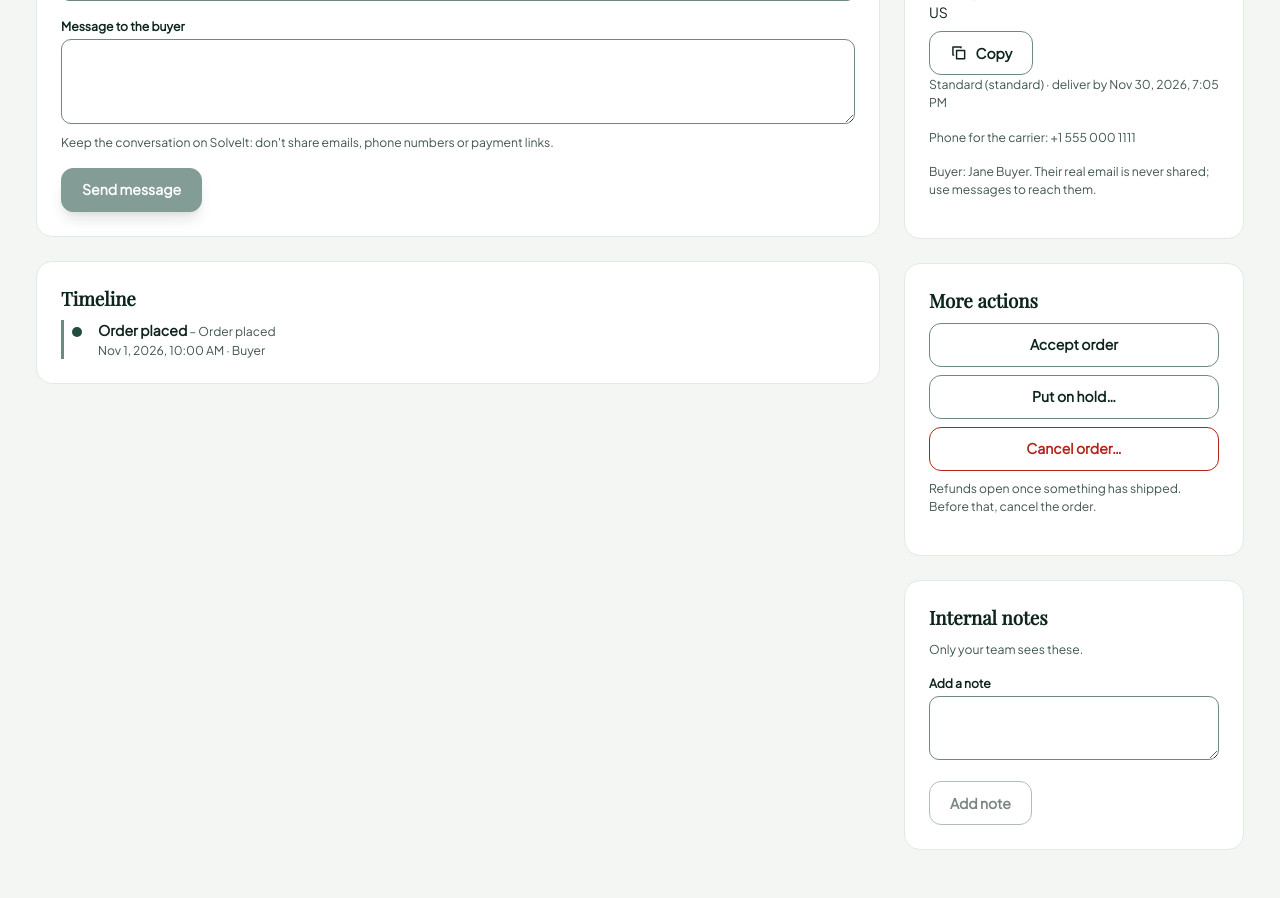
Test: review: live reloads and conflicts › a version conflict offers a Reload order button that keeps the dialog open
(page scrolled)
Click the button "Cancel order…": (1074,449) [929,427,1219,471]
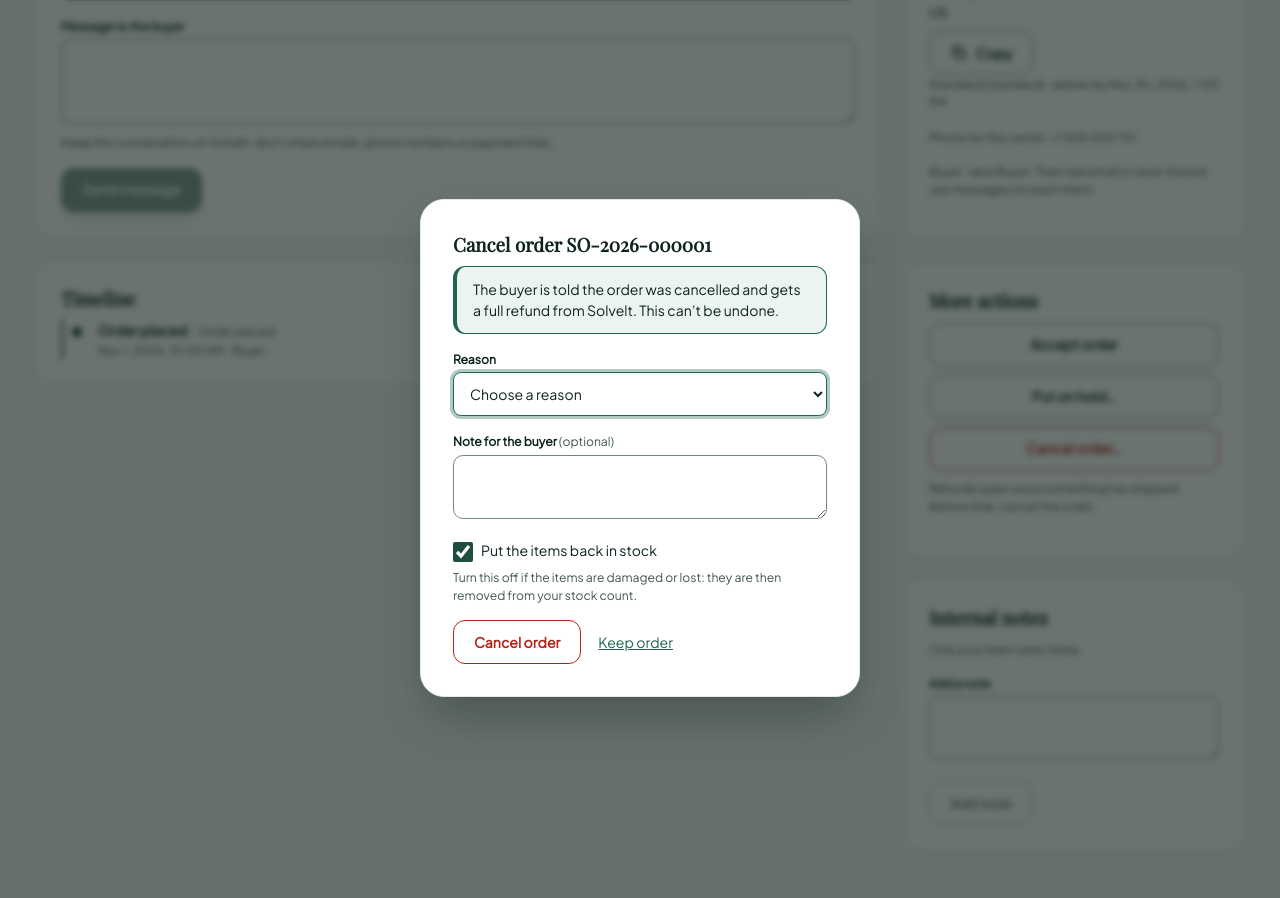
Select "Other" in the dropdown labelled "Reason": (640,394) [453,372,827,416]
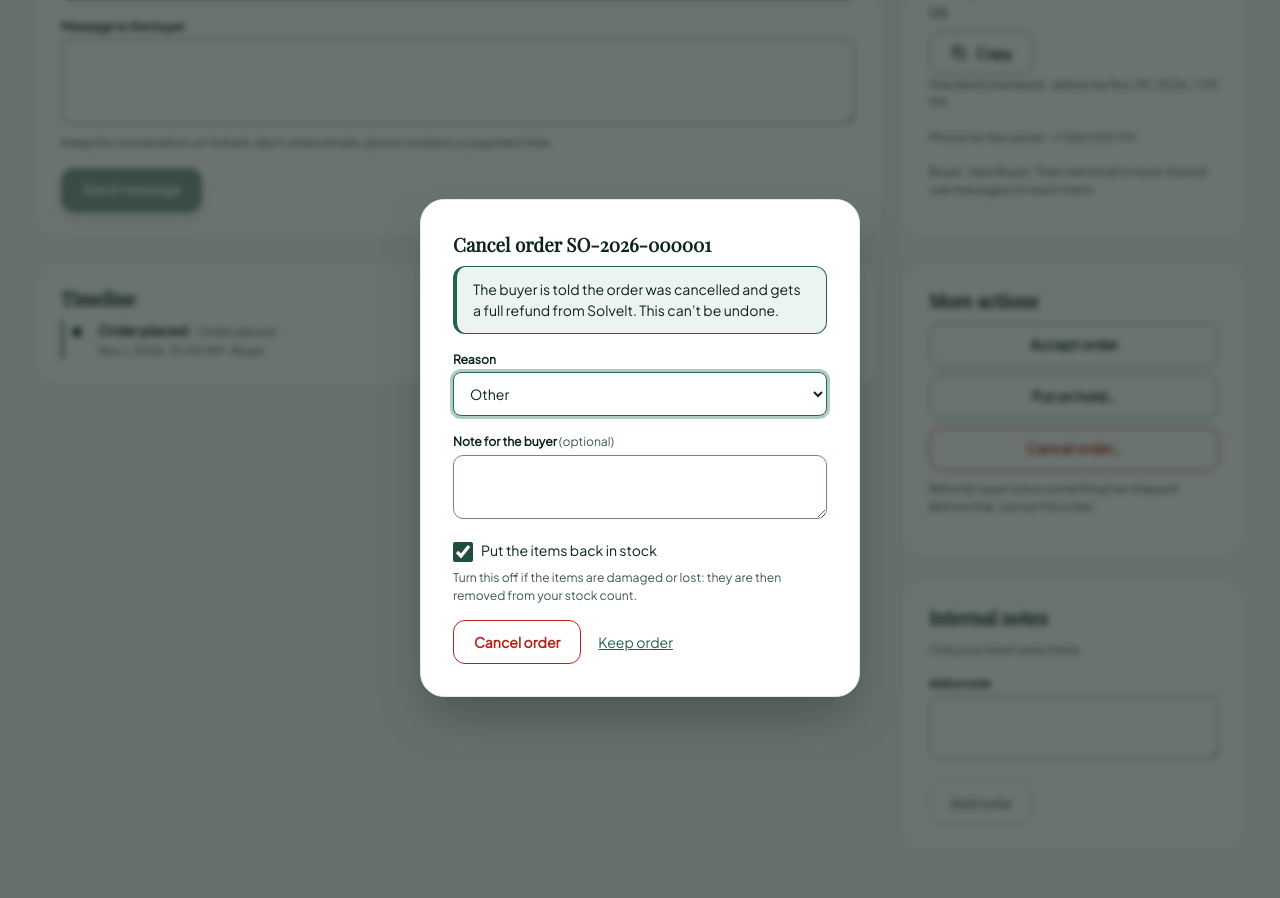
Click the button "Cancel order": (517,642) [453,620,581,664]
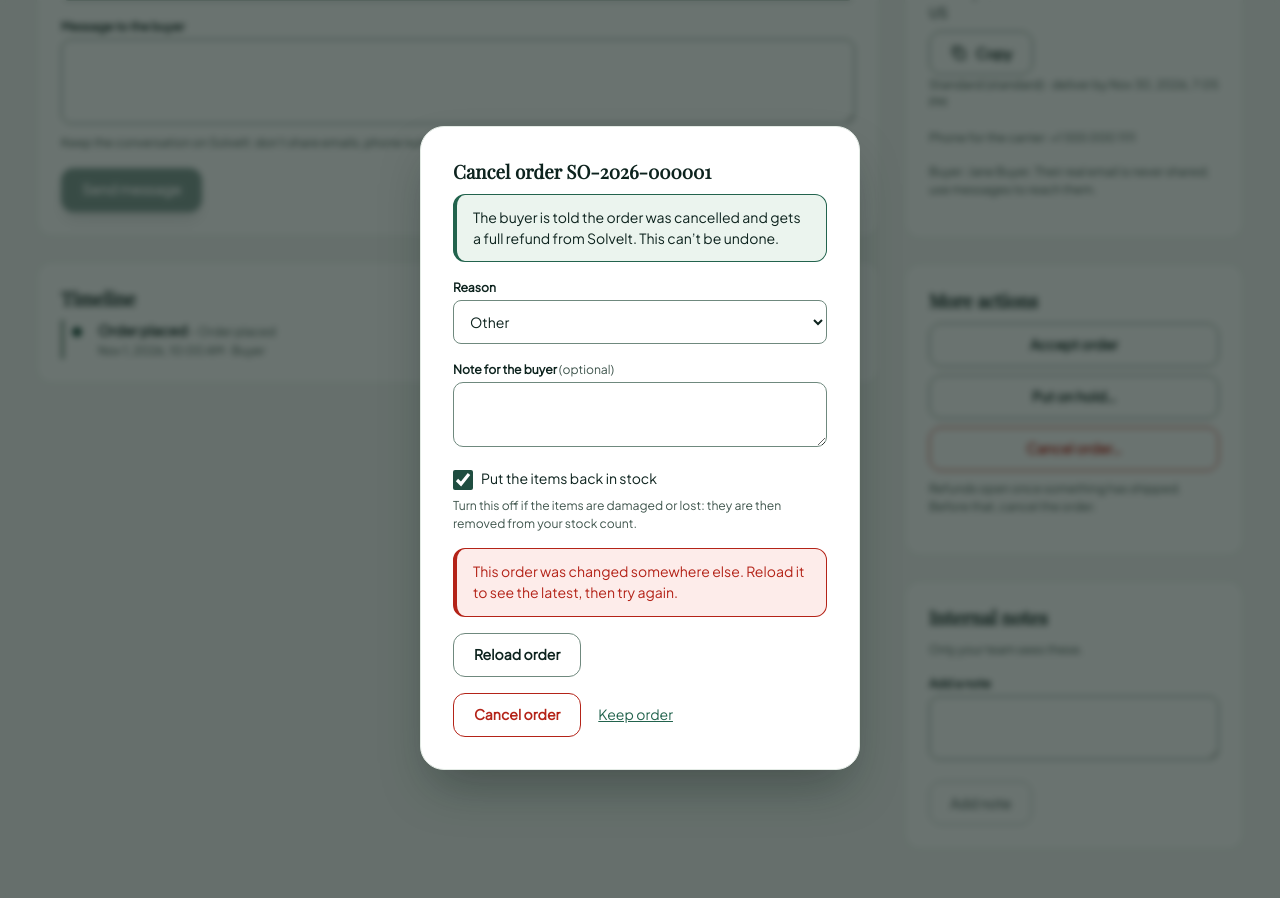
Click the button "Reload order": (517,654) [453,632,581,676]
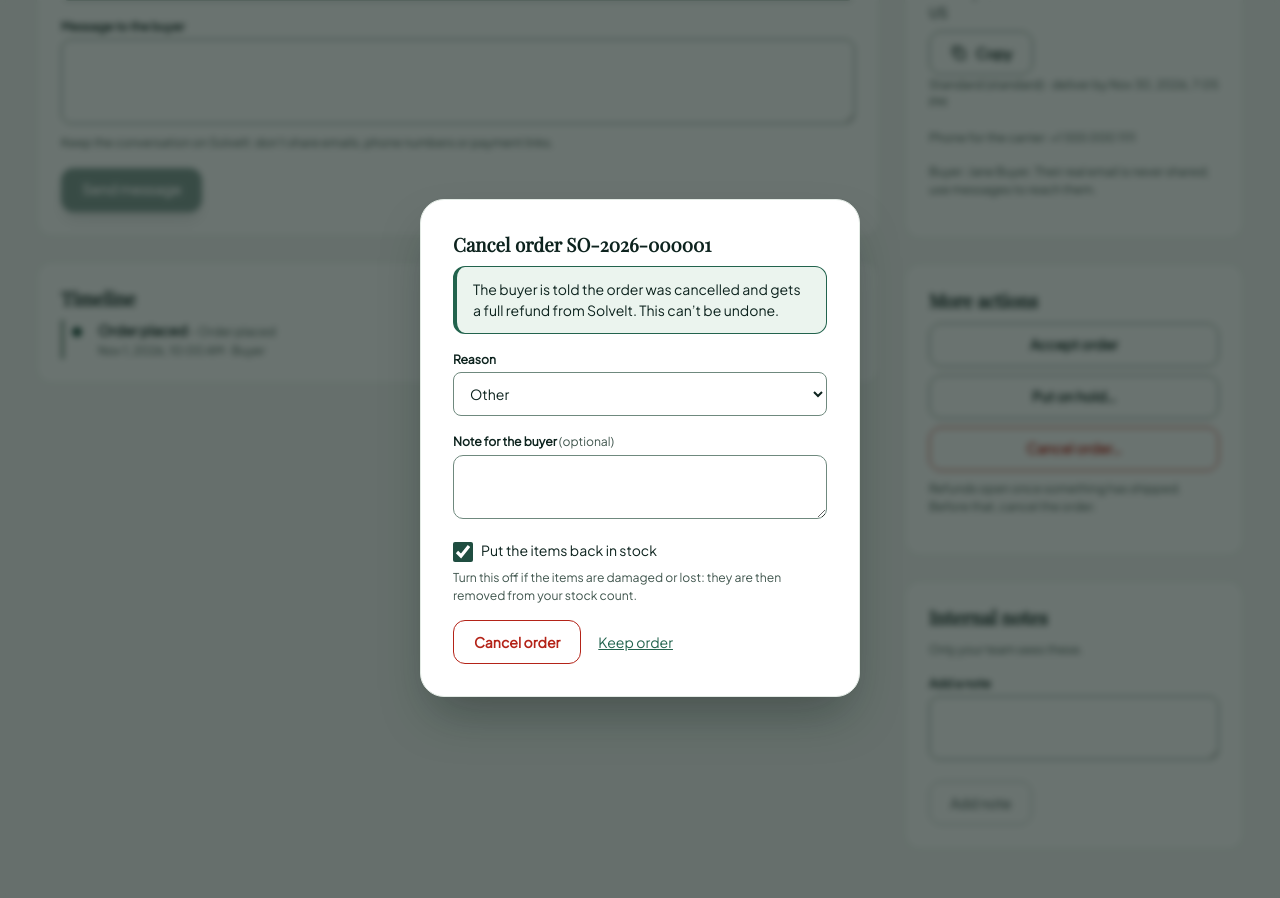
Check: the dialog "Cancel order" is shown, box [420,199,860,697]
Check: the button "Reload order" is gone
